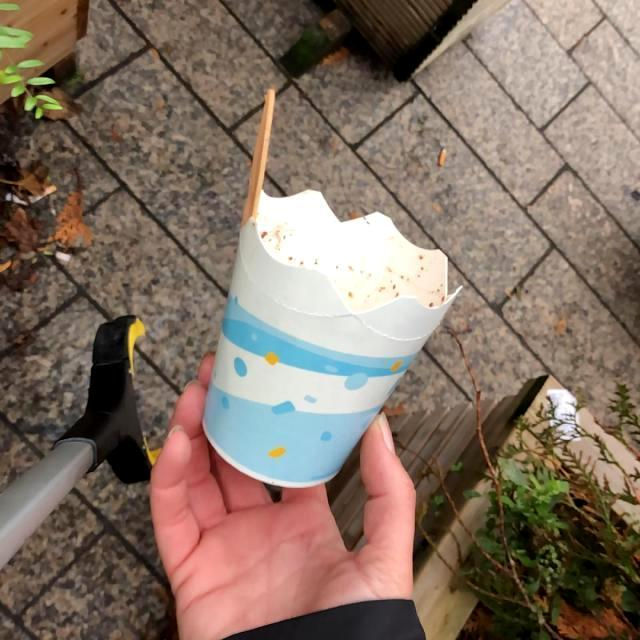Paper: (198, 184, 466, 490)
